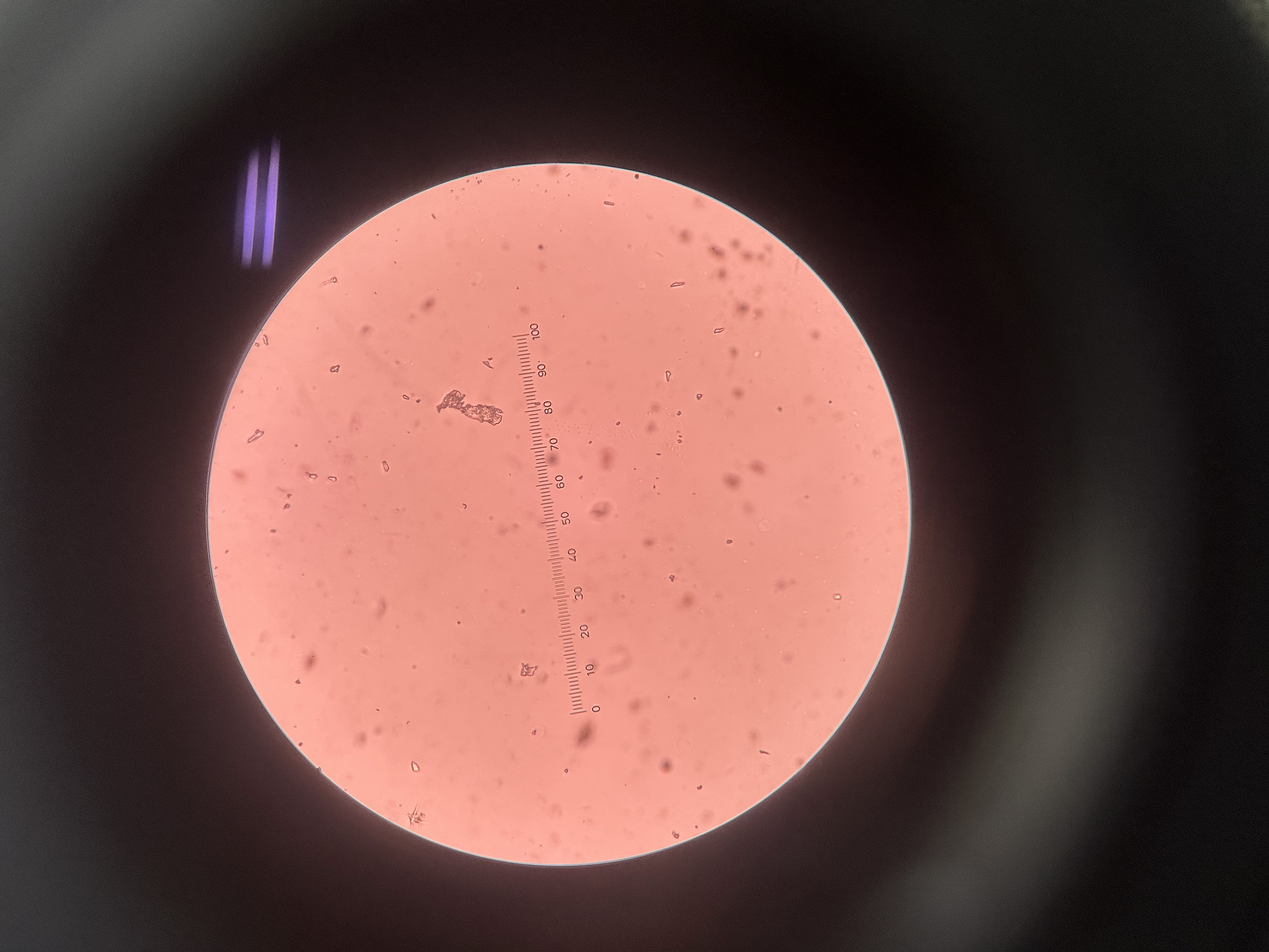not_microplastic: (433, 386, 509, 425), (404, 805, 434, 828), (243, 432, 271, 445), (327, 362, 343, 375), (262, 332, 274, 343)
